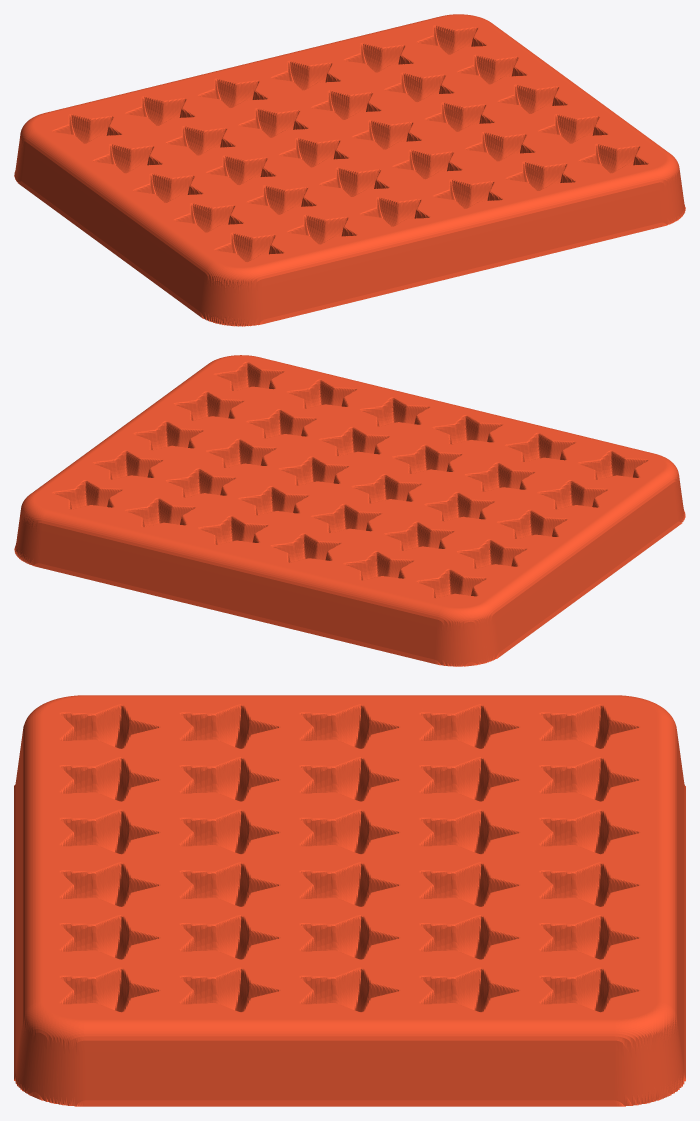
Rendered from mold.glb.
The picture shows the model from 3 angles, top to bottom: view 1: azimuth 30°, elevation 25°; view 2: azimuth 150°, elevation 25°; view 3: azimuth 270°, elevation 25°; orthographic projection. The views are drawn at different scales.
Visible parts, largest first — view 1: geometry_0; view 2: geometry_0; view 3: geometry_0.
Boxes of the visible parts, x1,y1,x2,y2 form: geometry_0: (14,14,685,326); geometry_0: (14,355,685,666); geometry_0: (14,695,685,1106).
Size of the model in its own units: 0.104 by 0.0105 by 0.0852.
